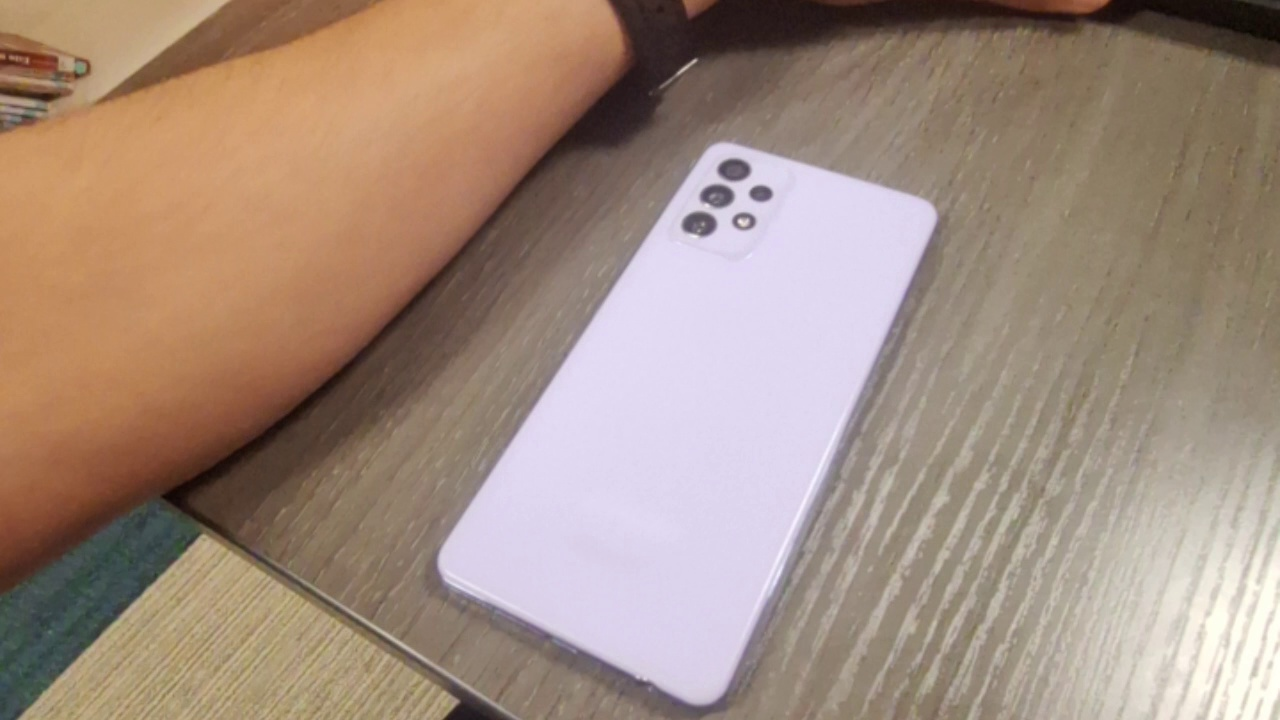celular: (434, 140, 945, 709)
